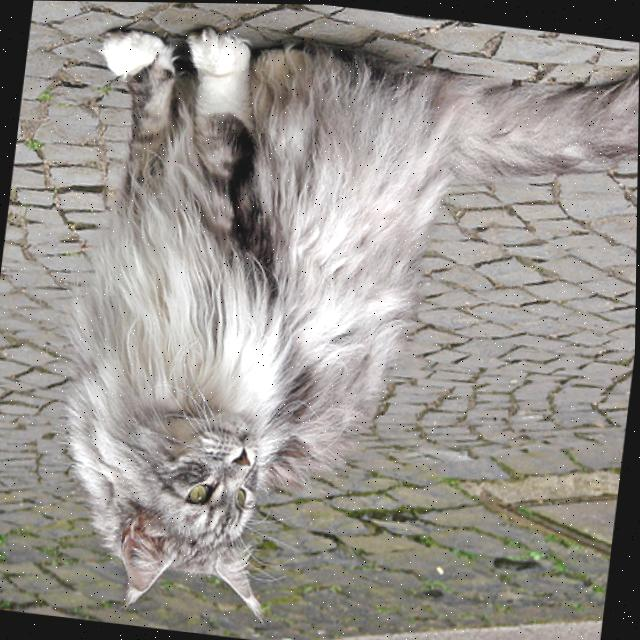Maine Coon: (29, 0, 640, 640)
